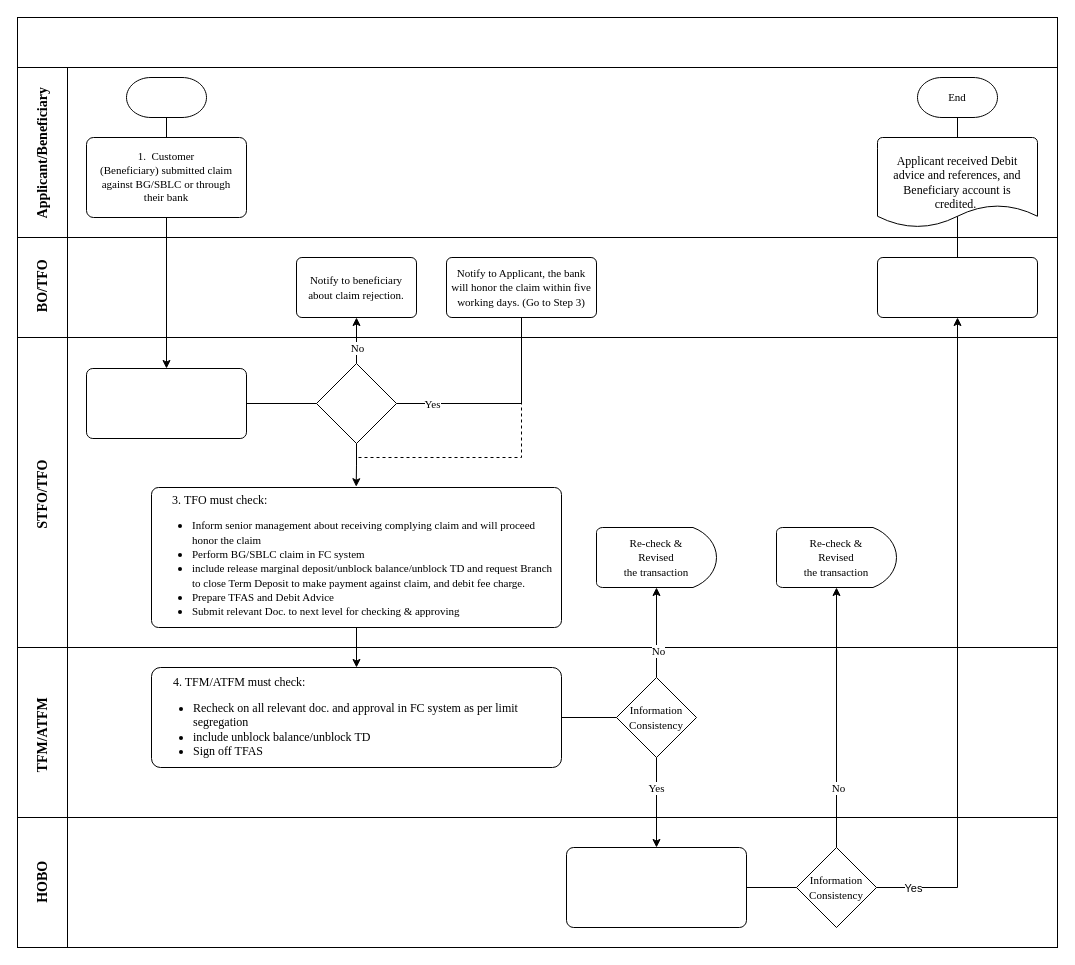
Some shapes in this 1075 by 965 pixel diagram are drawn without their labels. The box of each missing label's shape, as (x1, y1, x2, y2) in pixels:
2. Checking claim letter and supporting doc.: (86, 368, 246, 438)
5. Check and approval in FC system as per limit segregation and Sign off TFAS: (566, 846, 746, 928)
6. Send Applicant debit advice and/or related document for reference, and: (876, 256, 1038, 318)
BG/SBLC Claim: (16, 16, 1058, 68)
Compliance Claim: (316, 362, 396, 444)
Start: (126, 76, 206, 118)
